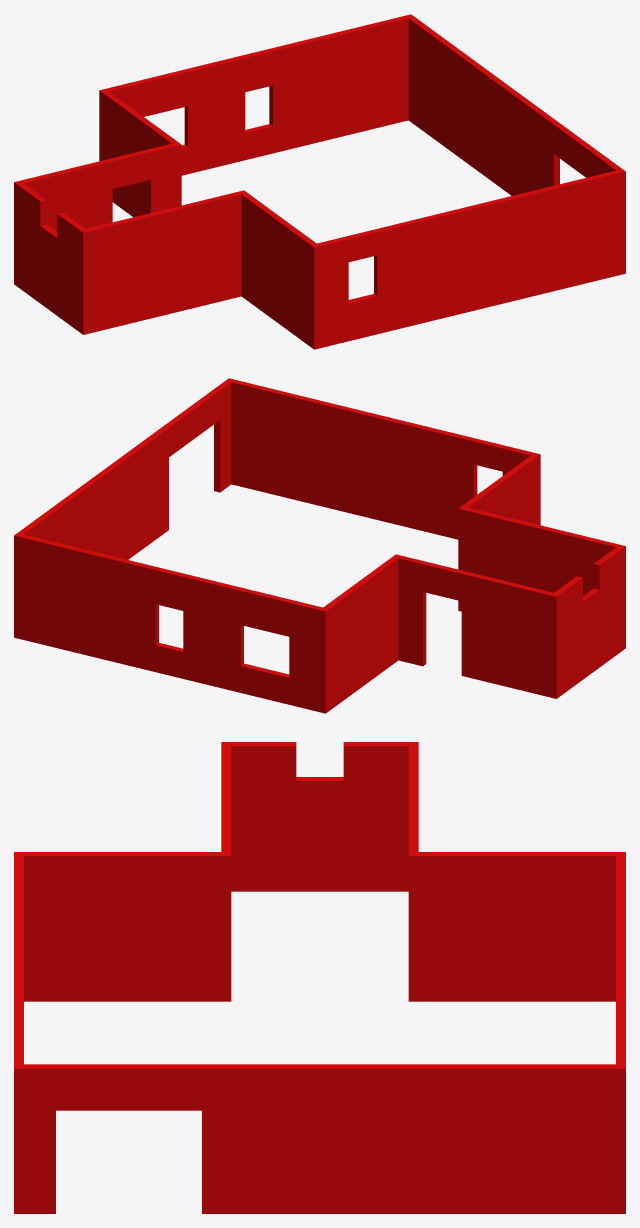
Rendered from SM_House_MasterWall_01.fbx.
3 views of the same model, one above another, from view 1: azimuth 30°, elevation 25°; view 2: azimuth 150°, elevation 25°; view 3: azimuth 270°, elevation 25° (orthographic). The views are drawn at different scales.
Parts seen in each view (by area): view 1: SM_House_MasterWall_01; view 2: SM_House_MasterWall_01; view 3: SM_House_MasterWall_01.
Part boxes in pixels (bbox=[...]): SM_House_MasterWall_01: bbox=[14, 14, 625, 349]; SM_House_MasterWall_01: bbox=[14, 378, 625, 713]; SM_House_MasterWall_01: bbox=[14, 742, 625, 1213].
Size of the model in its own units: 1788 by 1416 by 371.
